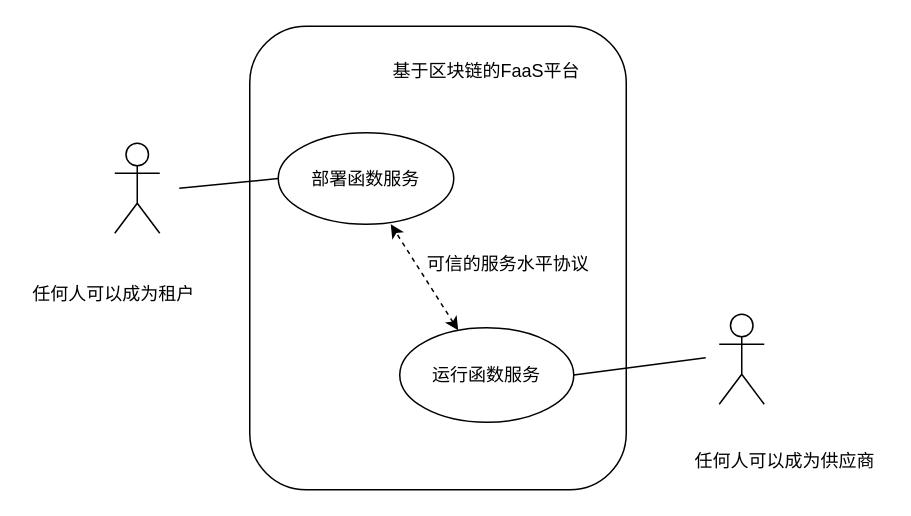
Image size: 911x516. Some labels were removed from this diagram. Each missing label, with the centre of its shape:
供应商: the point at 741,358
租户: the point at 136,187
